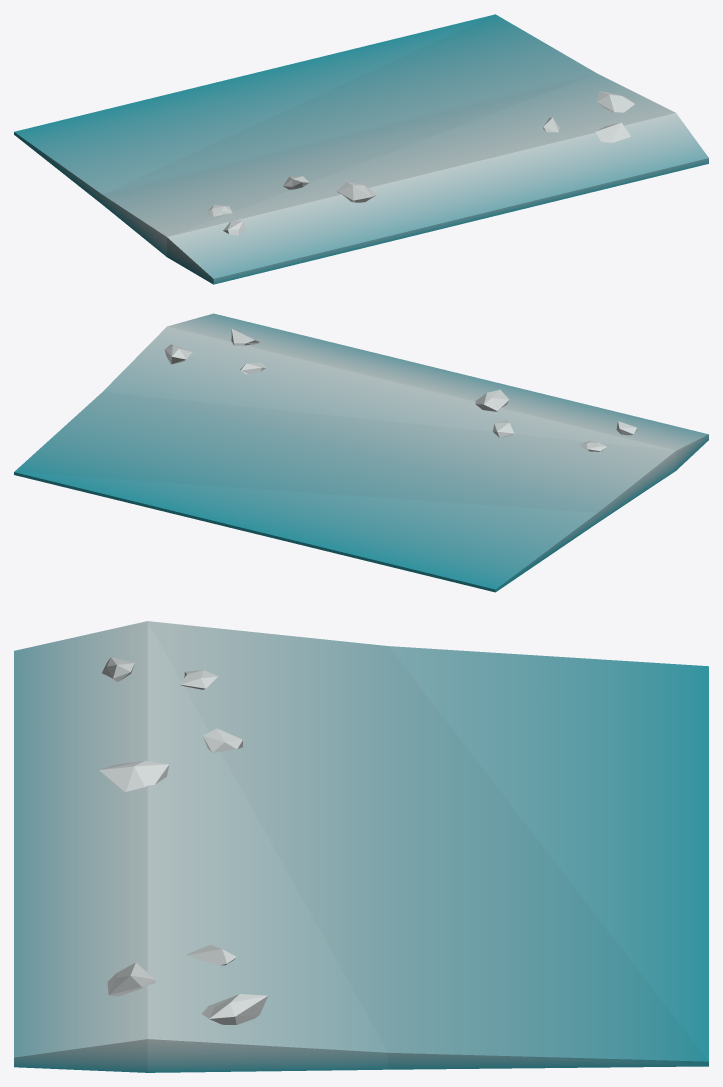
File: surf-foam-strip.glb
The picture shows the model from 3 angles, top to bottom: view 1: azimuth 30°, elevation 25°; view 2: azimuth 150°, elevation 25°; view 3: azimuth 270°, elevation 25°; orthographic projection. The views are drawn at different scales.
Parts seen in each view (by area): view 1: surf_foam_strip; view 2: surf_foam_strip; view 3: surf_foam_strip.
Boxes of the visible parts, box(x1,y1,x2,y2) form: surf_foam_strip: box(14, 14, 708, 284); surf_foam_strip: box(14, 313, 708, 592); surf_foam_strip: box(14, 621, 708, 1072).
Size of the model in its own units: 3.7 by 0.2202 by 2.6.
